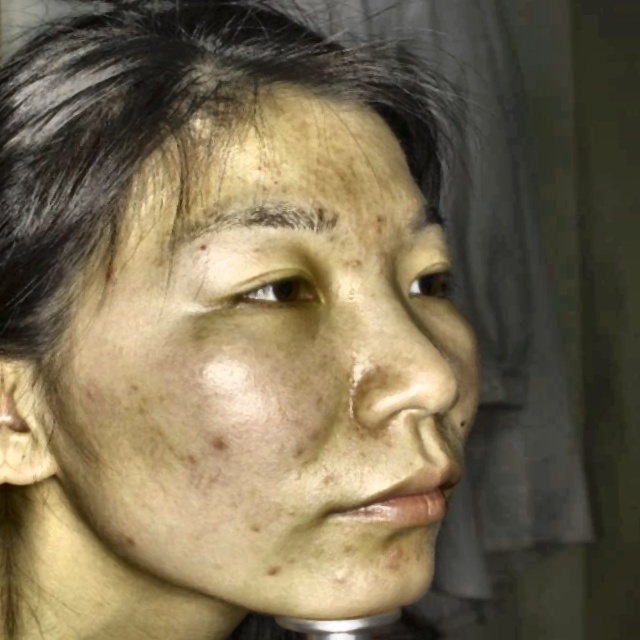comedone: (381, 536, 407, 575), (116, 527, 143, 557), (97, 259, 118, 286), (259, 566, 286, 587), (346, 254, 362, 270)
